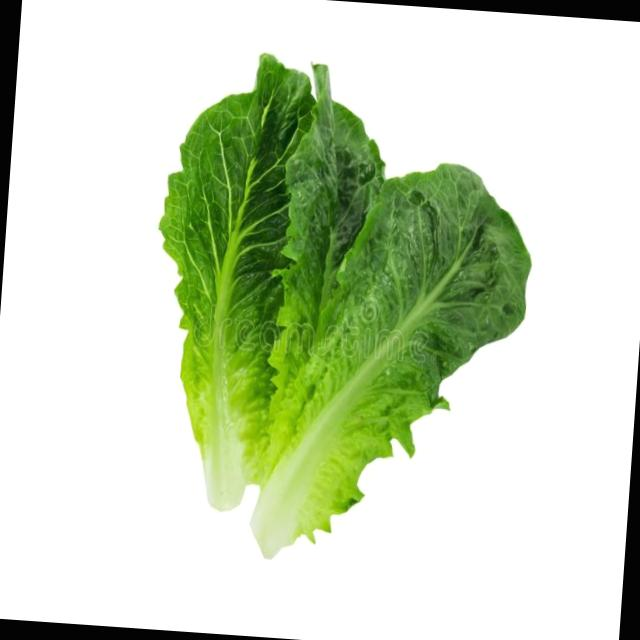Lettuce-Ready-to-Harvest: (136, 38, 553, 580)
